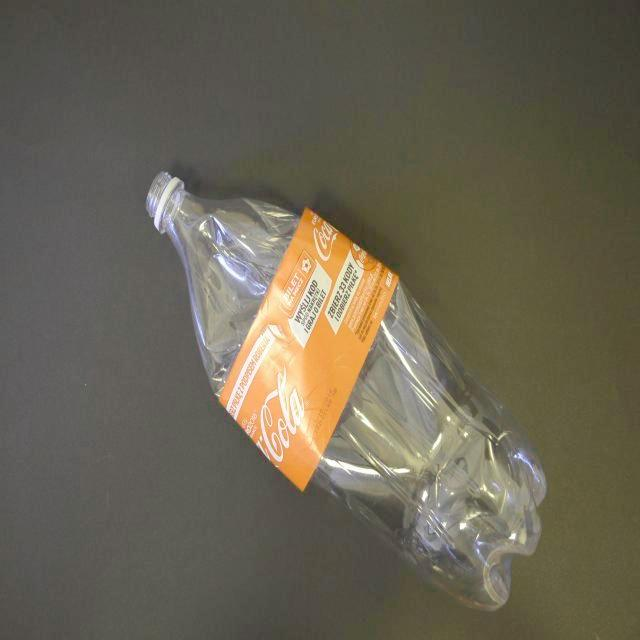bottle: (145, 170, 546, 613)
